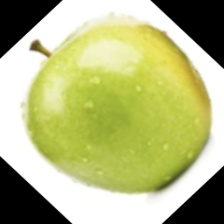apple: (36, 20, 222, 160)
